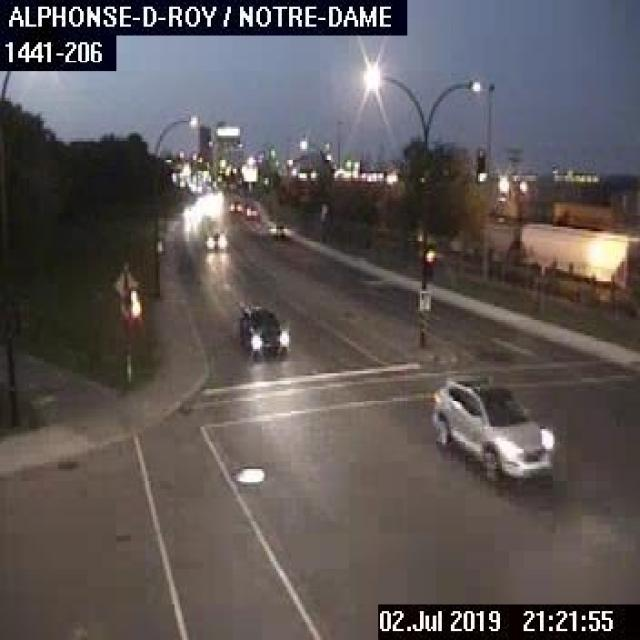vehicle: (427, 371, 551, 480), (236, 304, 284, 354), (227, 200, 258, 216), (203, 226, 226, 246), (266, 220, 289, 236)
